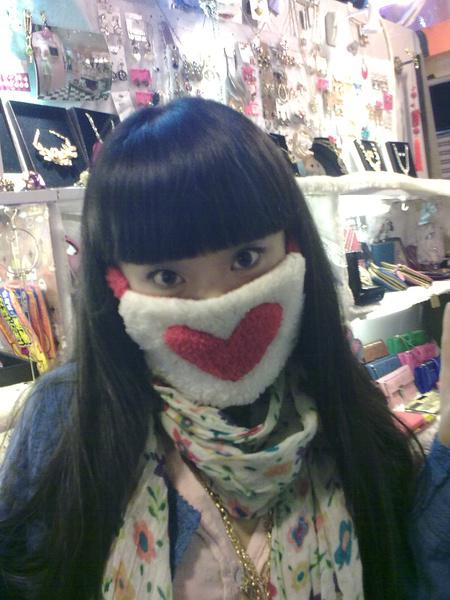OK: (121, 222, 295, 396)
